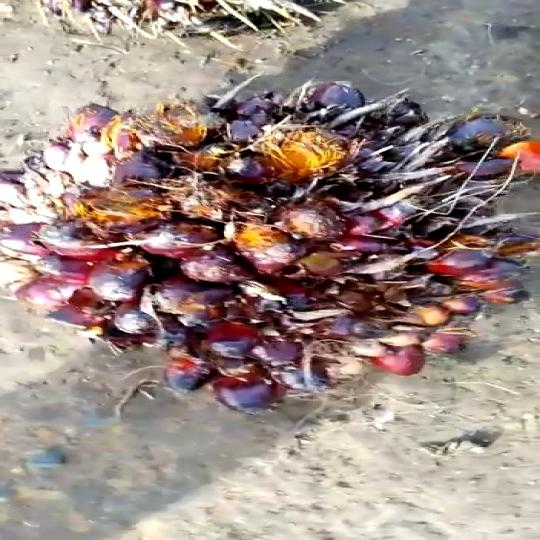masak: (0, 70, 540, 418)
